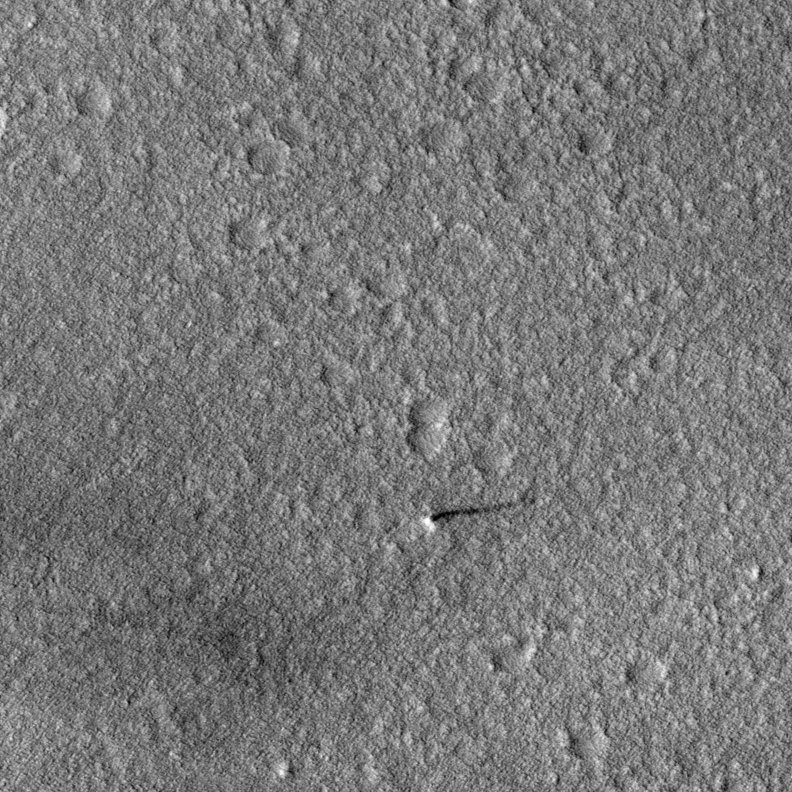dust_devil: (417, 495, 538, 535)
